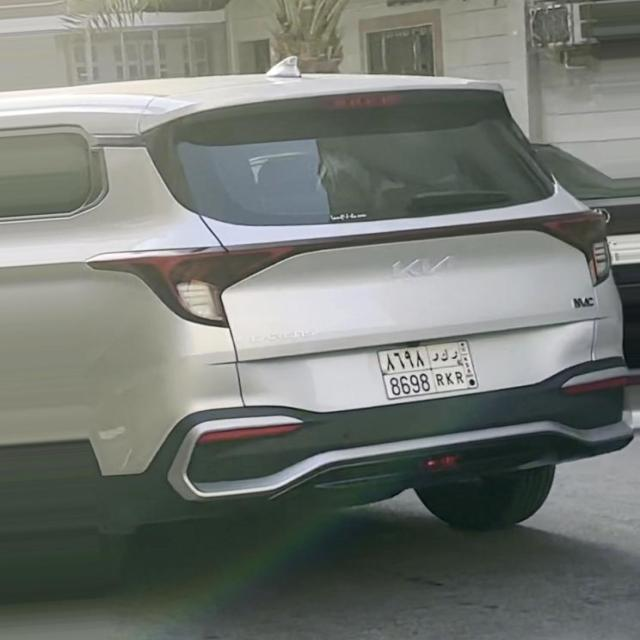Car-plate: (368, 330, 499, 406)
